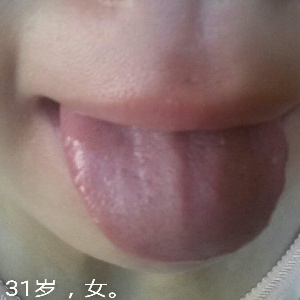st: (56, 115, 287, 264)
